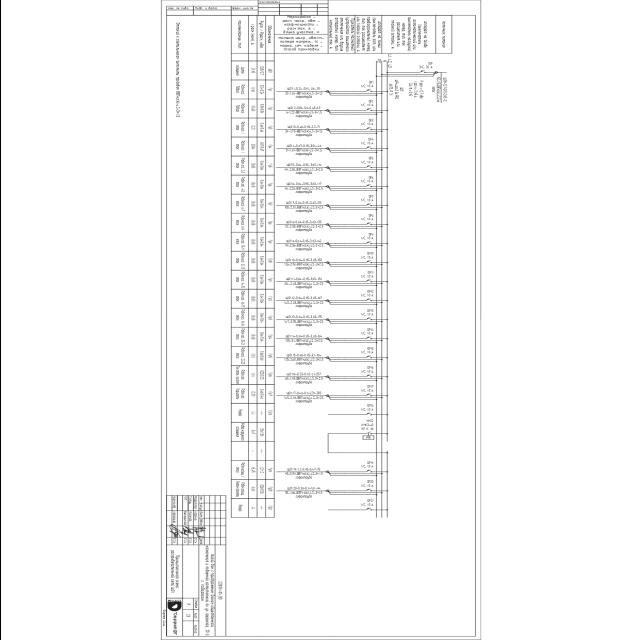-: (392, 80, 398, 100), (359, 424, 374, 432), (359, 369, 374, 374), (359, 160, 374, 164), (359, 350, 374, 354), (359, 275, 374, 279), (359, 388, 374, 392), (359, 465, 374, 469), (359, 332, 374, 336), (359, 503, 374, 507), (359, 293, 374, 297), (359, 256, 374, 260), (359, 198, 374, 202), (359, 103, 373, 107), (359, 408, 373, 412), (359, 142, 373, 146), (359, 312, 373, 316), (359, 217, 373, 221), (359, 122, 373, 126), (418, 65, 432, 69), (359, 484, 373, 488), (359, 237, 374, 240), (359, 85, 374, 88), (359, 180, 373, 183)
KM: (361, 432, 374, 441)
QF: (418, 70, 427, 74), (364, 126, 372, 130), (364, 260, 372, 264), (364, 279, 372, 283), (364, 298, 372, 302), (364, 317, 372, 321), (364, 336, 372, 340), (364, 355, 372, 359), (364, 374, 372, 378), (364, 393, 372, 397), (364, 412, 372, 416), (364, 469, 372, 473), (364, 488, 372, 492), (364, 508, 372, 512), (364, 184, 372, 188), (364, 202, 372, 206), (363, 222, 371, 226), (364, 164, 372, 168), (364, 241, 372, 245), (364, 146, 372, 150), (364, 108, 372, 111), (364, 89, 372, 92)
